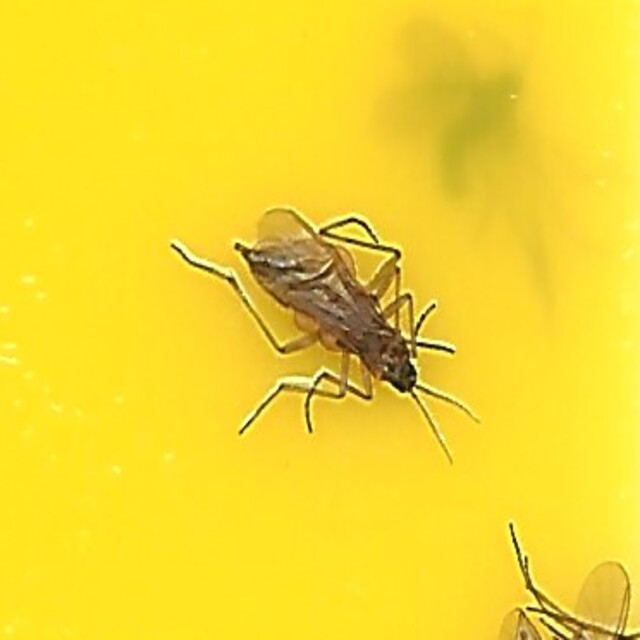Nematocera: (172, 203, 468, 437)
